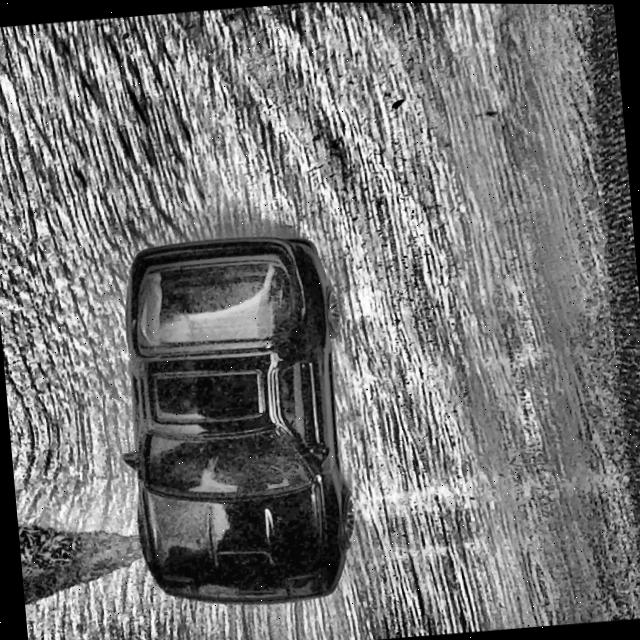car: (104, 227, 366, 615)
